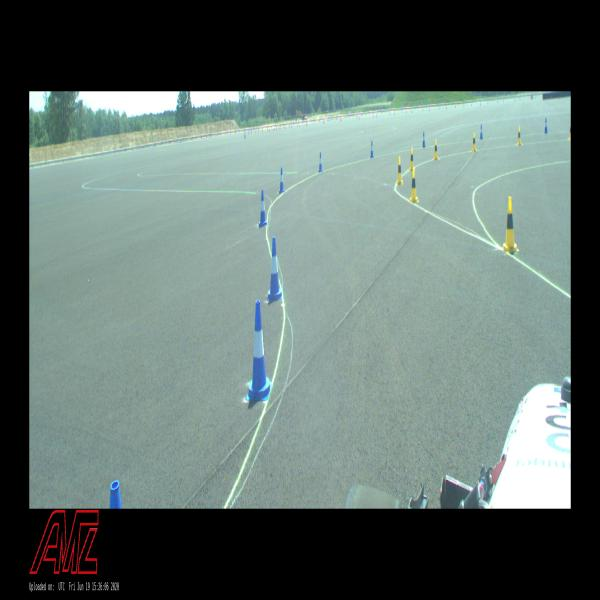blue_cone: (246, 300, 272, 400), (268, 237, 282, 302), (259, 189, 267, 228), (279, 168, 284, 194), (318, 153, 323, 172), (370, 141, 374, 158), (422, 132, 426, 147), (544, 118, 548, 133), (480, 124, 483, 139)
yellow_cone: (502, 197, 519, 254), (410, 168, 418, 203), (397, 157, 403, 184), (517, 126, 522, 146), (410, 147, 414, 171), (434, 140, 438, 160), (472, 132, 476, 152), (568, 124, 570, 140)
